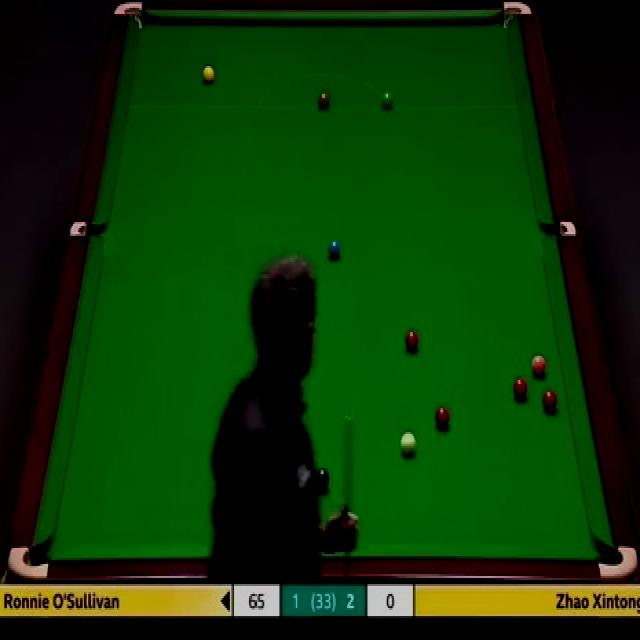black-ball: (316, 465, 330, 488)
blue-ball: (328, 239, 341, 261)
brown-ball: (318, 93, 330, 110)
green-ball: (382, 90, 393, 110)
pink-ball: (531, 353, 548, 378)
red-ball: (433, 405, 451, 430), (405, 327, 420, 352), (513, 378, 528, 399), (544, 391, 557, 413)
white-ball: (399, 428, 417, 456)
yellow-ball: (202, 66, 216, 86)
